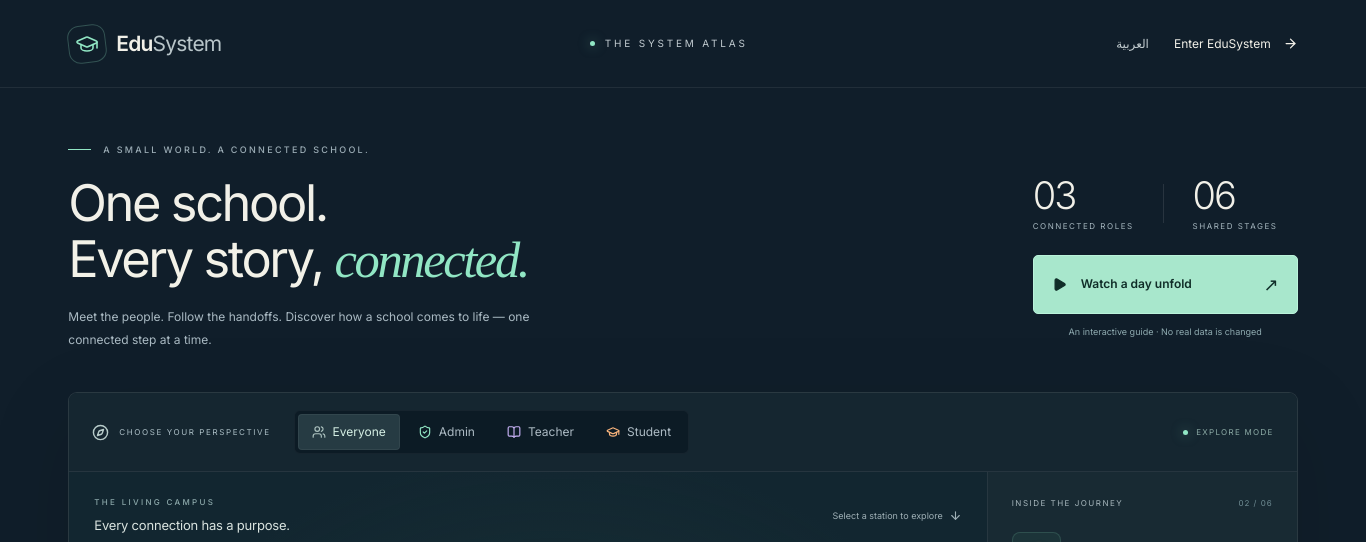
Scenario: school system journey › switches the complete guide to Arabic with RTL reading direction
The width and height of the screenshot is (1366, 542).
Click the button with aria-label "Switch to Arabic" at (1132, 44), box [1116,34,1149,52]
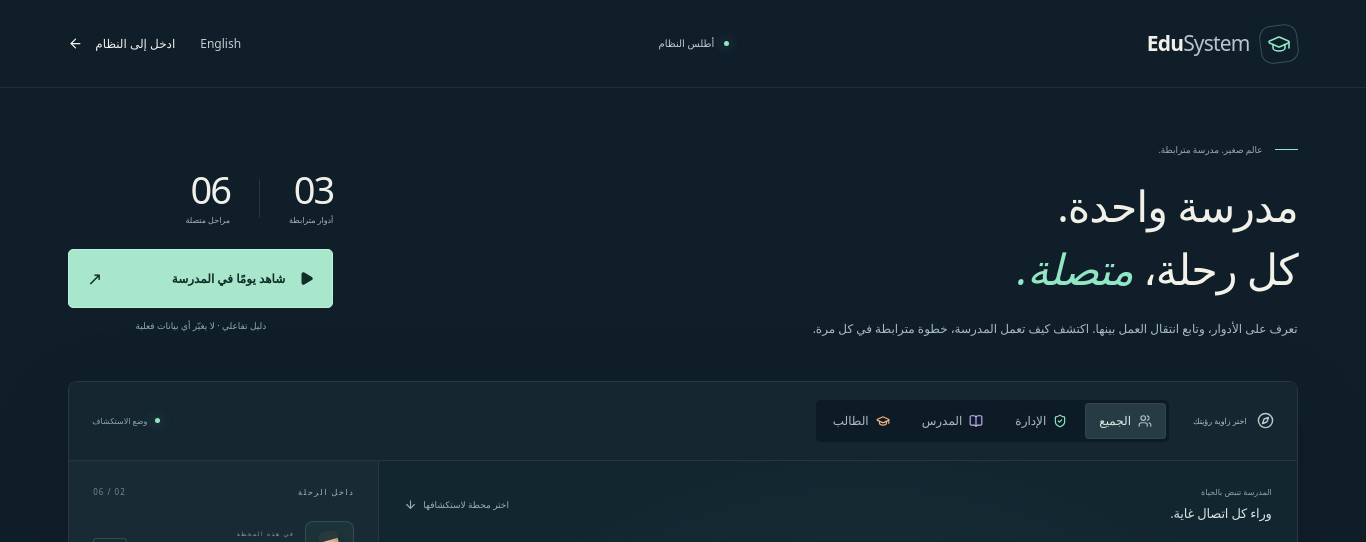
Check: the heading "مدرسة واحدة.كل رحلة، متصلة." is shown, box [1017,176,1298,298]
Check: the button "المدرس" is shown, box [908,403,997,439]
